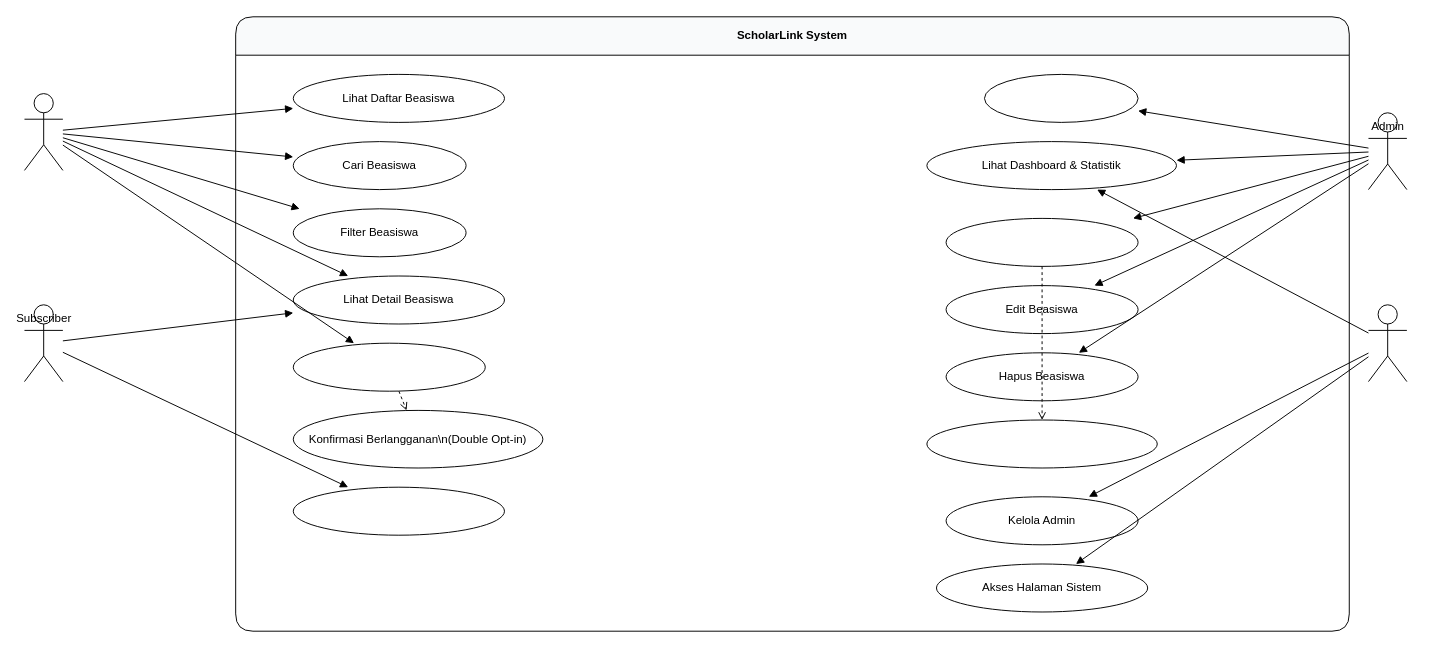
Image size: 1437x648. Some labels were removed from this diagram. Each missing label, with the box of its shape:
Berhenti Berlangganan: (292, 486, 504, 535)
Berlangganan Email: (292, 342, 485, 391)
Broadcast Beasiswa Baru: (926, 419, 1157, 468)
Login Admin: (984, 73, 1138, 122)
Super Admin: (1368, 304, 1407, 382)
Tambah Beasiswa: (945, 217, 1138, 266)
Visitor: (24, 93, 63, 170)
